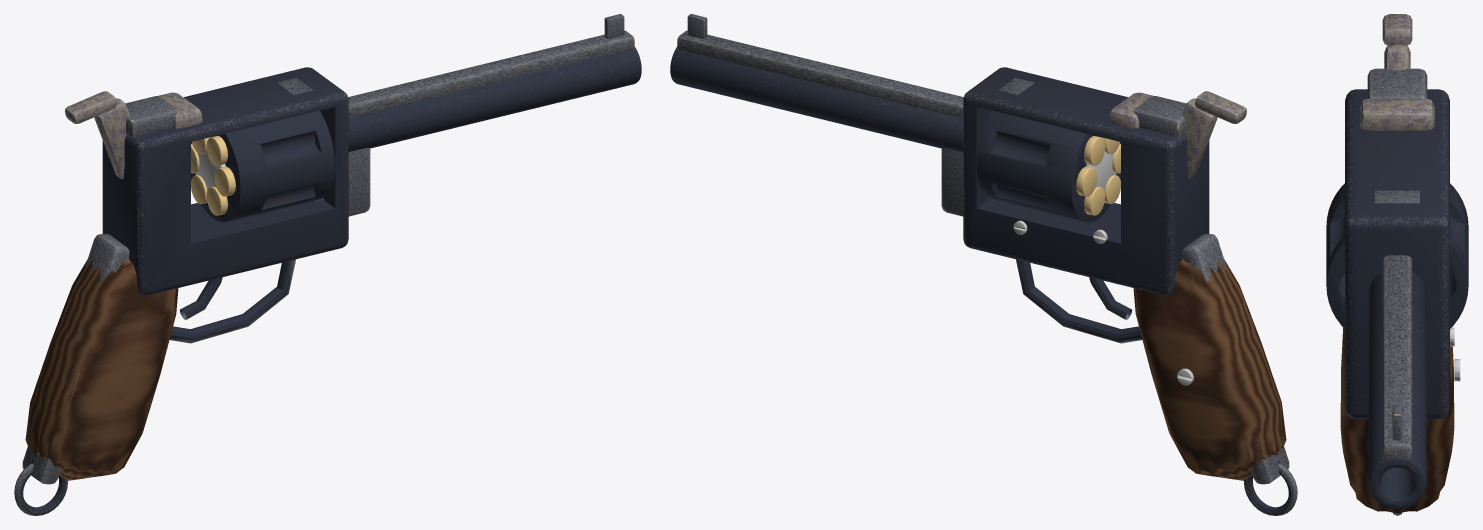
Rendered from revolver.glb.
3 renders of one model, left to right at view 1: azimuth 30°, elevation 25°; view 2: azimuth 150°, elevation 25°; view 3: azimuth 270°, elevation 25°, orthographic. The views are drawn at different scales.
Visible parts, largest first — view 1: frame, grip, barrel, cylinder, rib, trigger_guard, grip_strap, top_strap, hammer, barrel_lug, lanyard_ring, hammer_spur (+1 smaller); view 2: frame, grip, barrel, cylinder, rib, trigger_guard, grip_strap, top_strap, hammer, barrel_lug, lanyard_ring, hammer_spur (+1 smaller); view 3: frame, barrel, rib, grip, cylinder, latch, top_strap, hammer_spur, hammer, latch_post, front_sight.
Boxes of the visible parts, x1,y1,x2,y2 form: frame: (102,67,348,295); grip: (25,258,178,480); barrel: (348,47,641,151); cylinder: (191,110,334,222); rib: (348,30,634,118); trigger_guard: (169,259,295,343); grip_strap: (22,234,129,484); top_strap: (125,96,178,137); hammer: (94,98,129,179); barrel_lug: (314,148,370,216); lanyard_ring: (14,463,67,515); hammer_spur: (65,91,116,123); frame: (963,67,1209,295); grip: (1133,258,1286,480); barrel: (670,47,963,151); cylinder: (977,110,1120,222); rib: (677,30,963,118); trigger_guard: (1016,259,1142,343); grip_strap: (1182,234,1289,484); top_strap: (1133,96,1186,137); hammer: (1182,98,1217,179); barrel_lug: (941,148,997,216); lanyard_ring: (1244,463,1297,515); hammer_spur: (1195,91,1246,123); frame: (1345,89,1449,419); barrel: (1368,272,1426,509); rib: (1382,255,1412,460); grip: (1340,327,1454,513); cylinder: (1326,183,1468,328); latch: (1360,98,1434,130); top_strap: (1367,68,1427,100); hammer_spur: (1382,14,1412,45); hammer: (1384,44,1410,70); latch_post: (1375,190,1419,203); front_sight: (1392,404,1402,440).
Size of the model in its own units: 0.2476 by 0.1553 by 0.038.
1 material, 1 textured.
